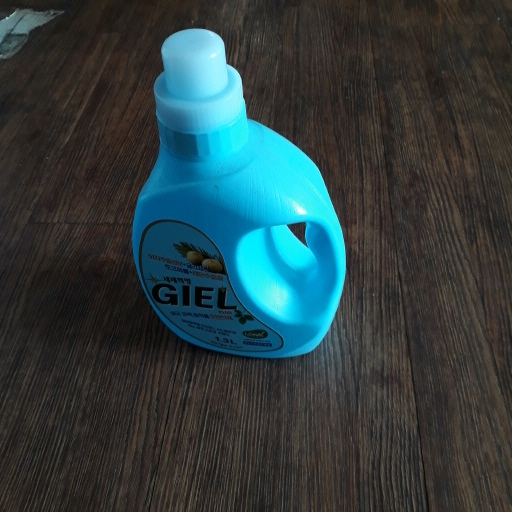Plastic_1: (132, 28, 346, 361)
